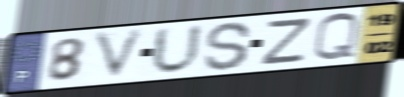8: (45, 36, 87, 84)
Q: (311, 11, 362, 64)
S: (202, 20, 255, 73)
U: (148, 22, 206, 77)
V: (91, 26, 149, 83)
Z: (257, 15, 316, 67)
